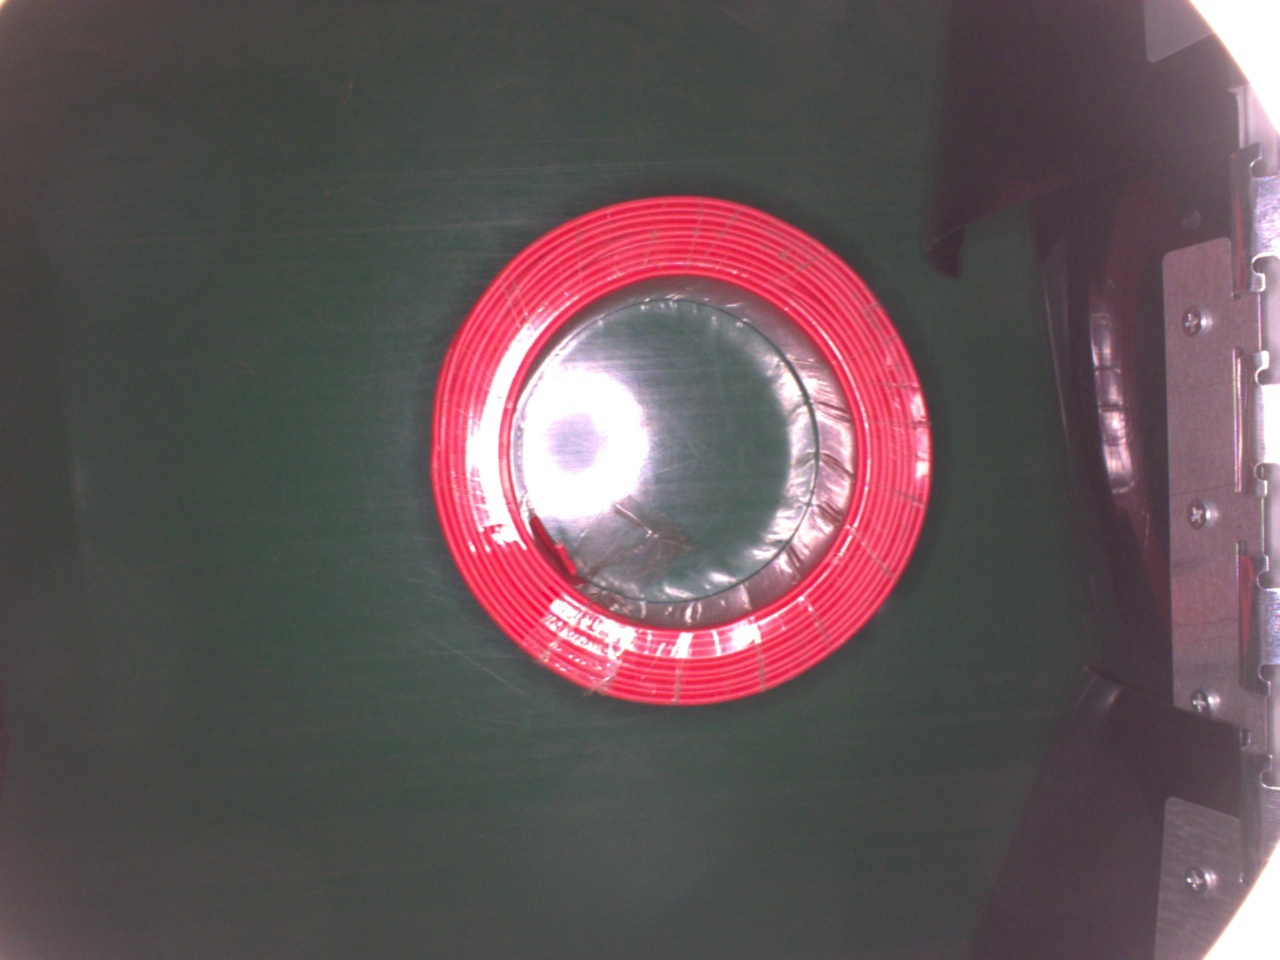red: (427, 192, 938, 708)
